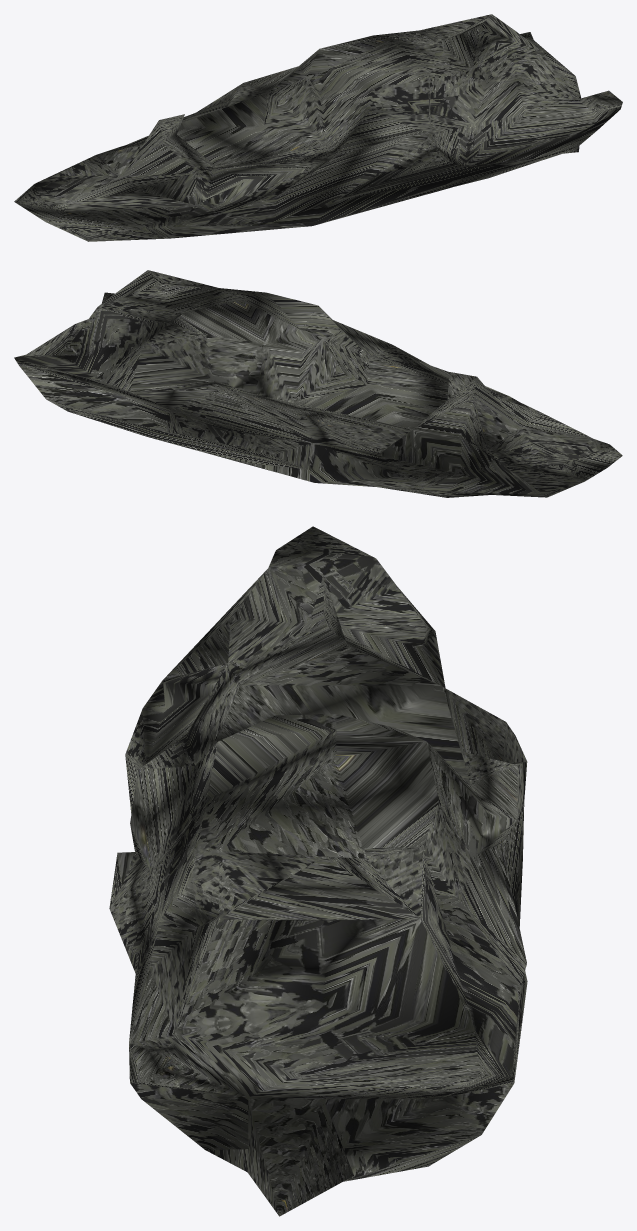
Rendered from irgc-fast-attack-craft-meshy-ultra-v1.glb.
3 views of the same model, one above another, from view 1: azimuth 30°, elevation 25°; view 2: azimuth 150°, elevation 25°; view 3: azimuth 270°, elevation 25° (orthographic). The views are drawn at different scales.
Size of the model in its own units: 1.89 by 0.4731 by 0.6125.
1 material, 1 textured.
